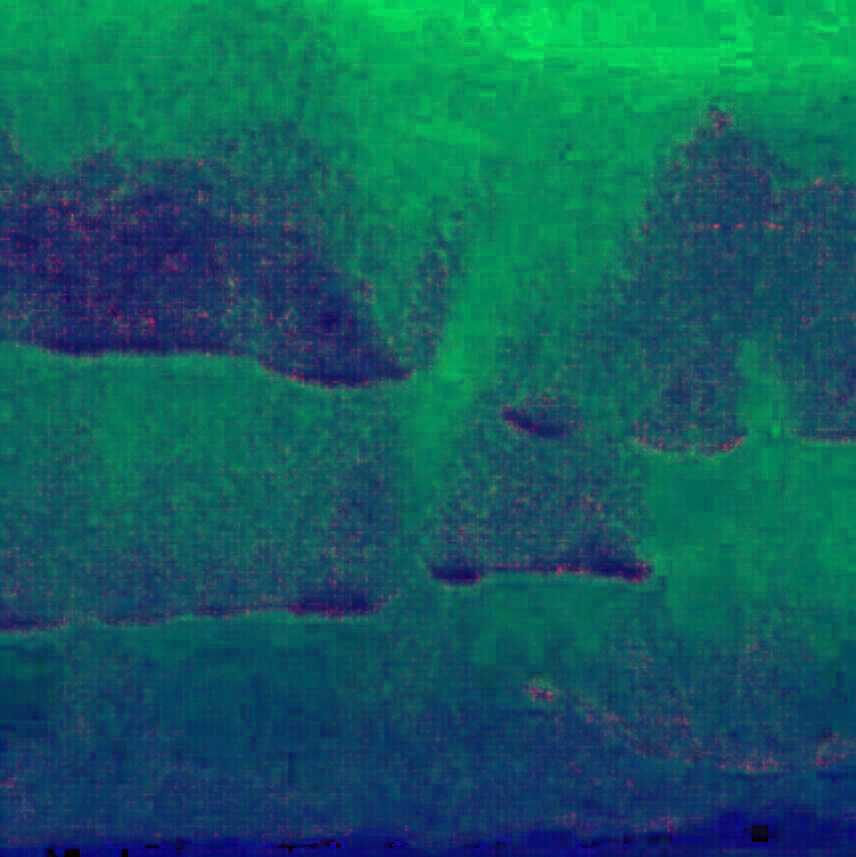rip_current: (324, 172, 608, 620)
